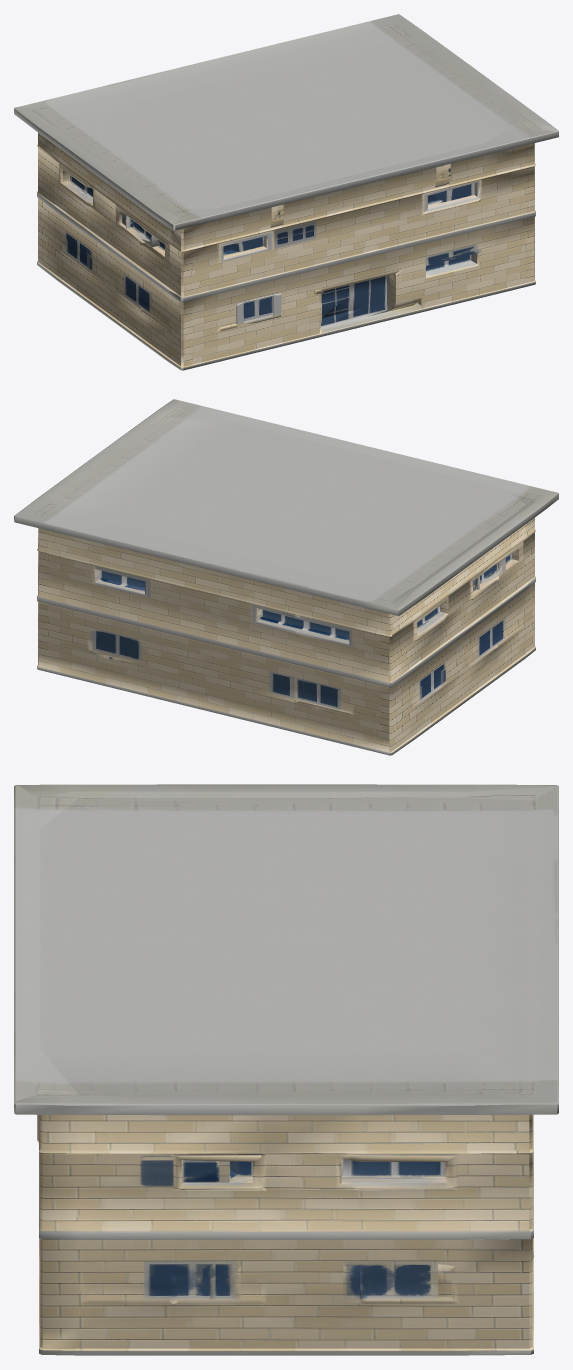
The model's file is placed_bld_556597973.glb.
3 views of the same model, one above another, from view 1: azimuth 30°, elevation 25°; view 2: azimuth 150°, elevation 25°; view 3: azimuth 270°, elevation 25° (orthographic). The views are drawn at different scales.
Visible parts, largest first — view 1: bld_556597973; view 2: bld_556597973; view 3: bld_556597973.
Part boxes in pixels (x1,y1,x2,y2): bld_556597973: [14, 14, 558, 370]; bld_556597973: [14, 399, 558, 755]; bld_556597973: [14, 784, 558, 1355].
Bounding box in the file's own units: 17.72 × 6.8 × 12.72.
Materials: 1 (1 with a texture image).
